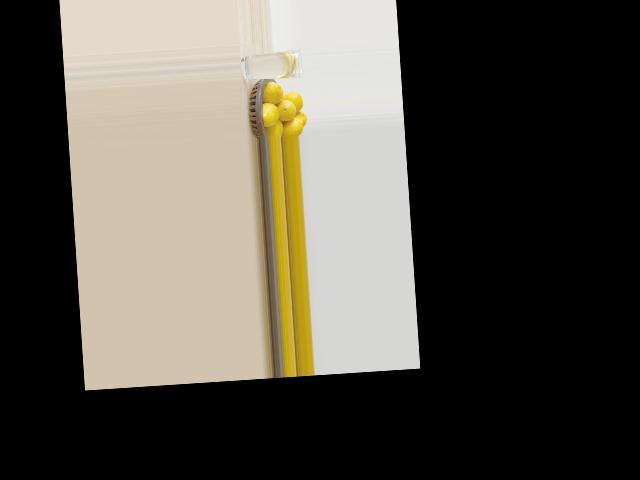lemon: (279, 115, 306, 137)
